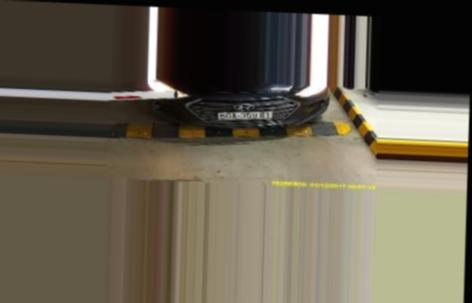License_Plate: (217, 109, 276, 124)
